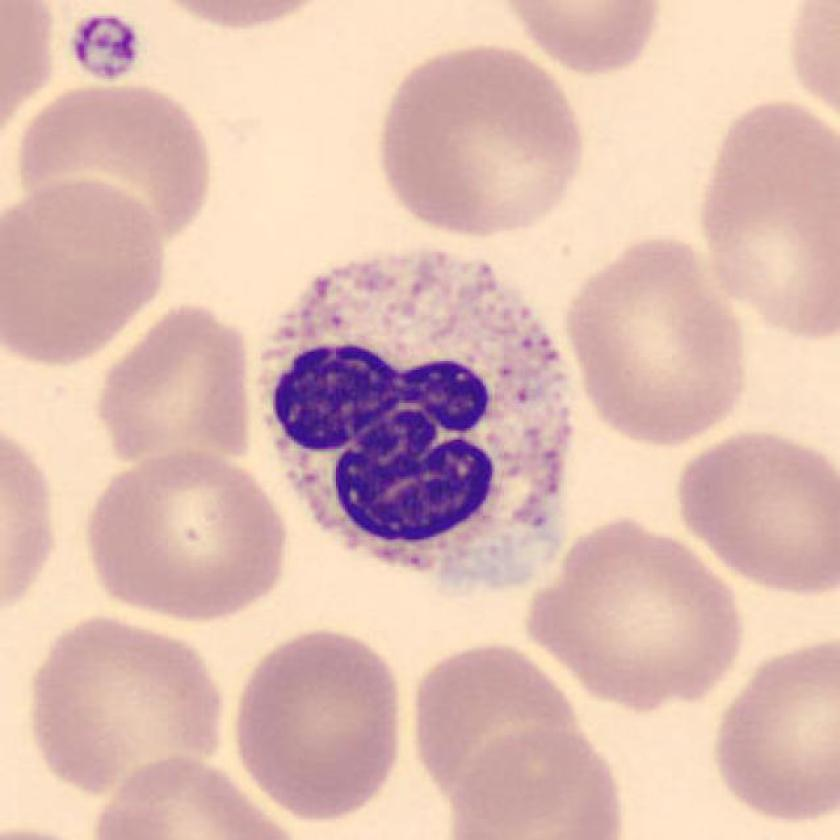neutrophil: (262, 250, 572, 589)
